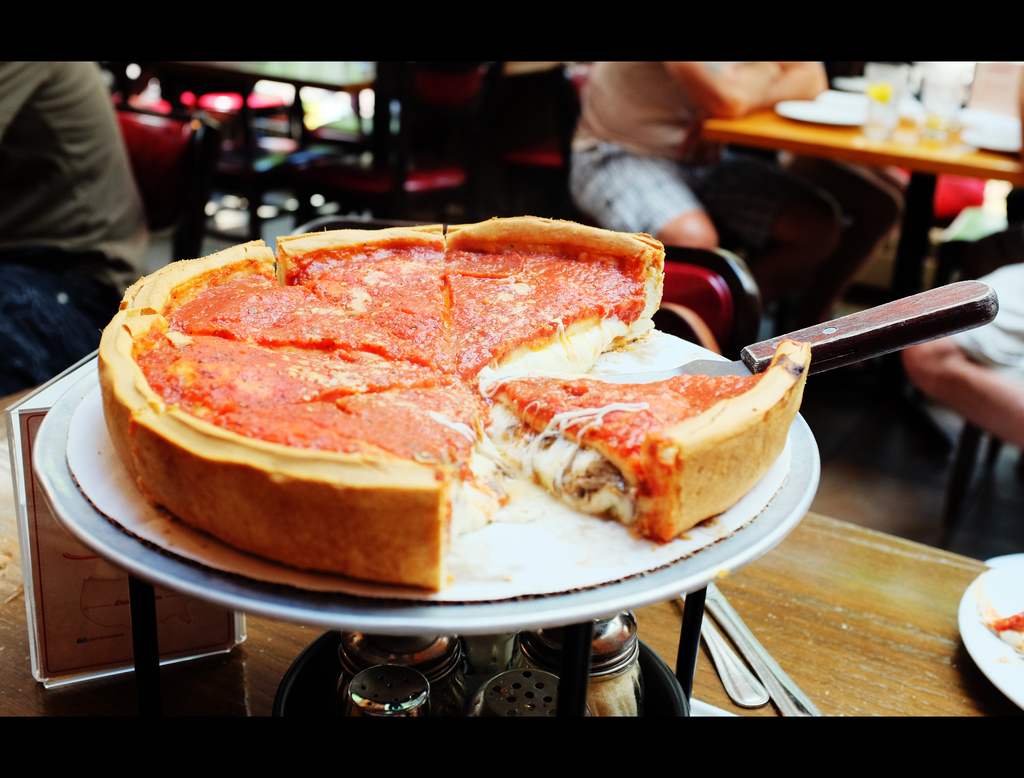Pizza: (86, 226, 805, 599)
